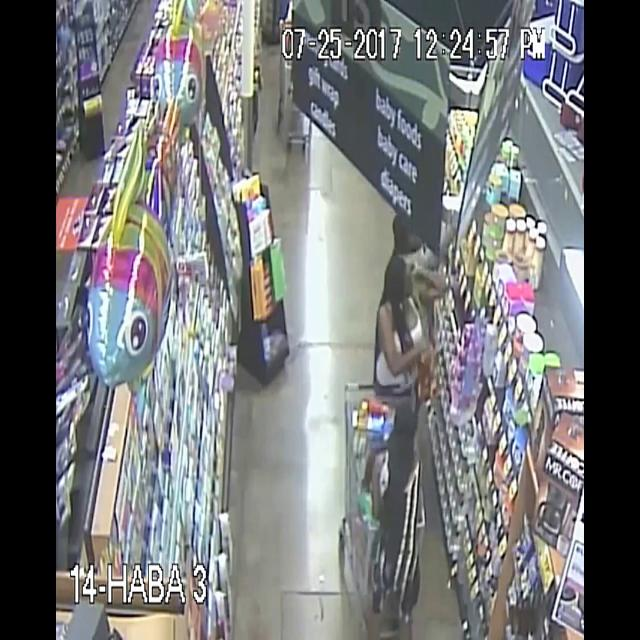Product: (404, 320, 442, 379)
normal: (362, 201, 417, 274)
shoplifting: (357, 195, 461, 412), (372, 402, 441, 640)
